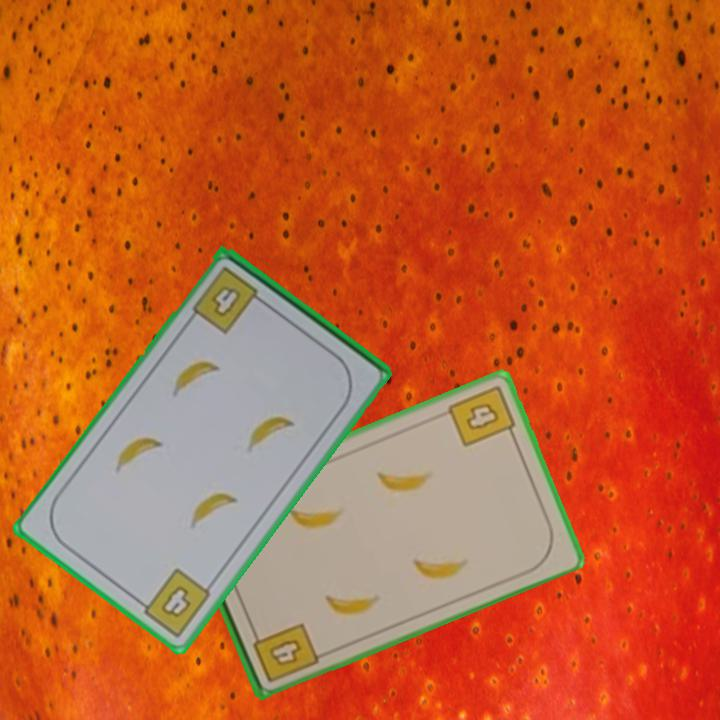4b: (132, 564, 214, 641), (188, 262, 269, 337), (444, 381, 520, 450), (248, 618, 321, 685)
